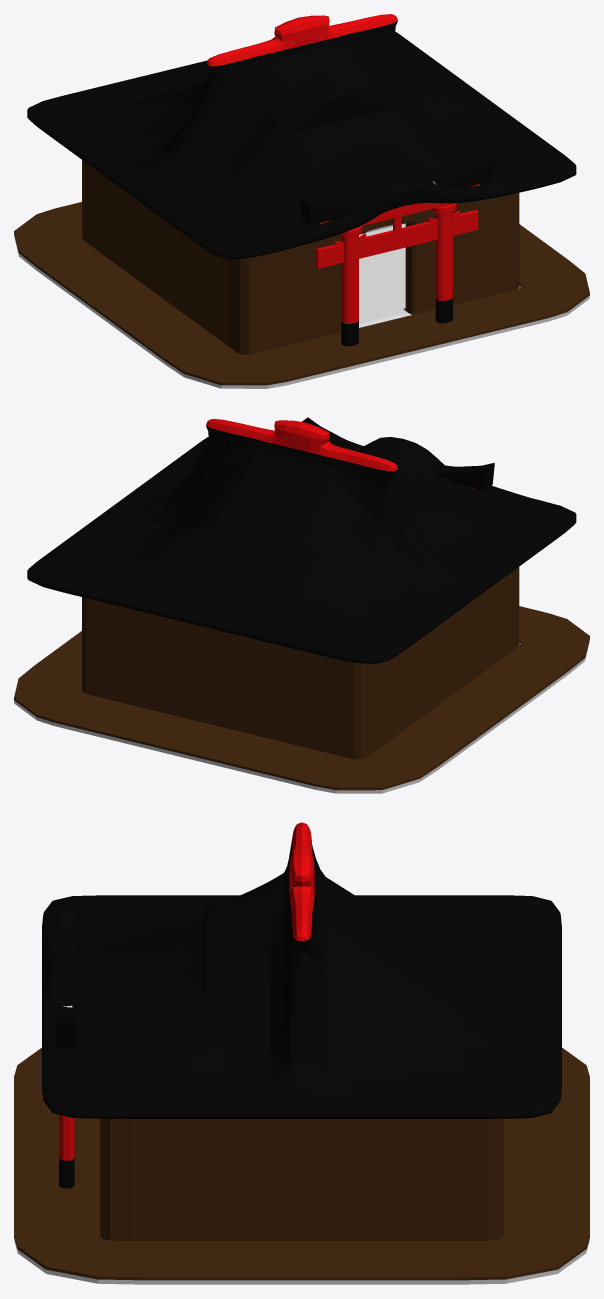
File: Shrine.fbx
3 renders of one model, top to bottom at view 1: azimuth 30°, elevation 25°; view 2: azimuth 150°, elevation 25°; view 3: azimuth 270°, elevation 25°, orthographic. The views are drawn at different scales.
Visible parts, largest first — view 1: ShrineBuilding, Terras, Torii; view 2: ShrineBuilding, Terras; view 3: ShrineBuilding, Terras, Torii.
Part boxes in pixels (<box>): ShrineBuilding: <box>27,14,576,354</box>; Terras: <box>14,202,589,388</box>; Torii: <box>316,203,478,346</box>; ShrineBuilding: <box>27,417,576,759</box>; Terras: <box>14,606,589,793</box>; ShrineBuilding: <box>42,822,561,1240</box>; Terras: <box>14,1047,589,1284</box>; Torii: <box>59,1115,74,1188</box>.
Size of the model in its own units: 997 by 717 by 997.
